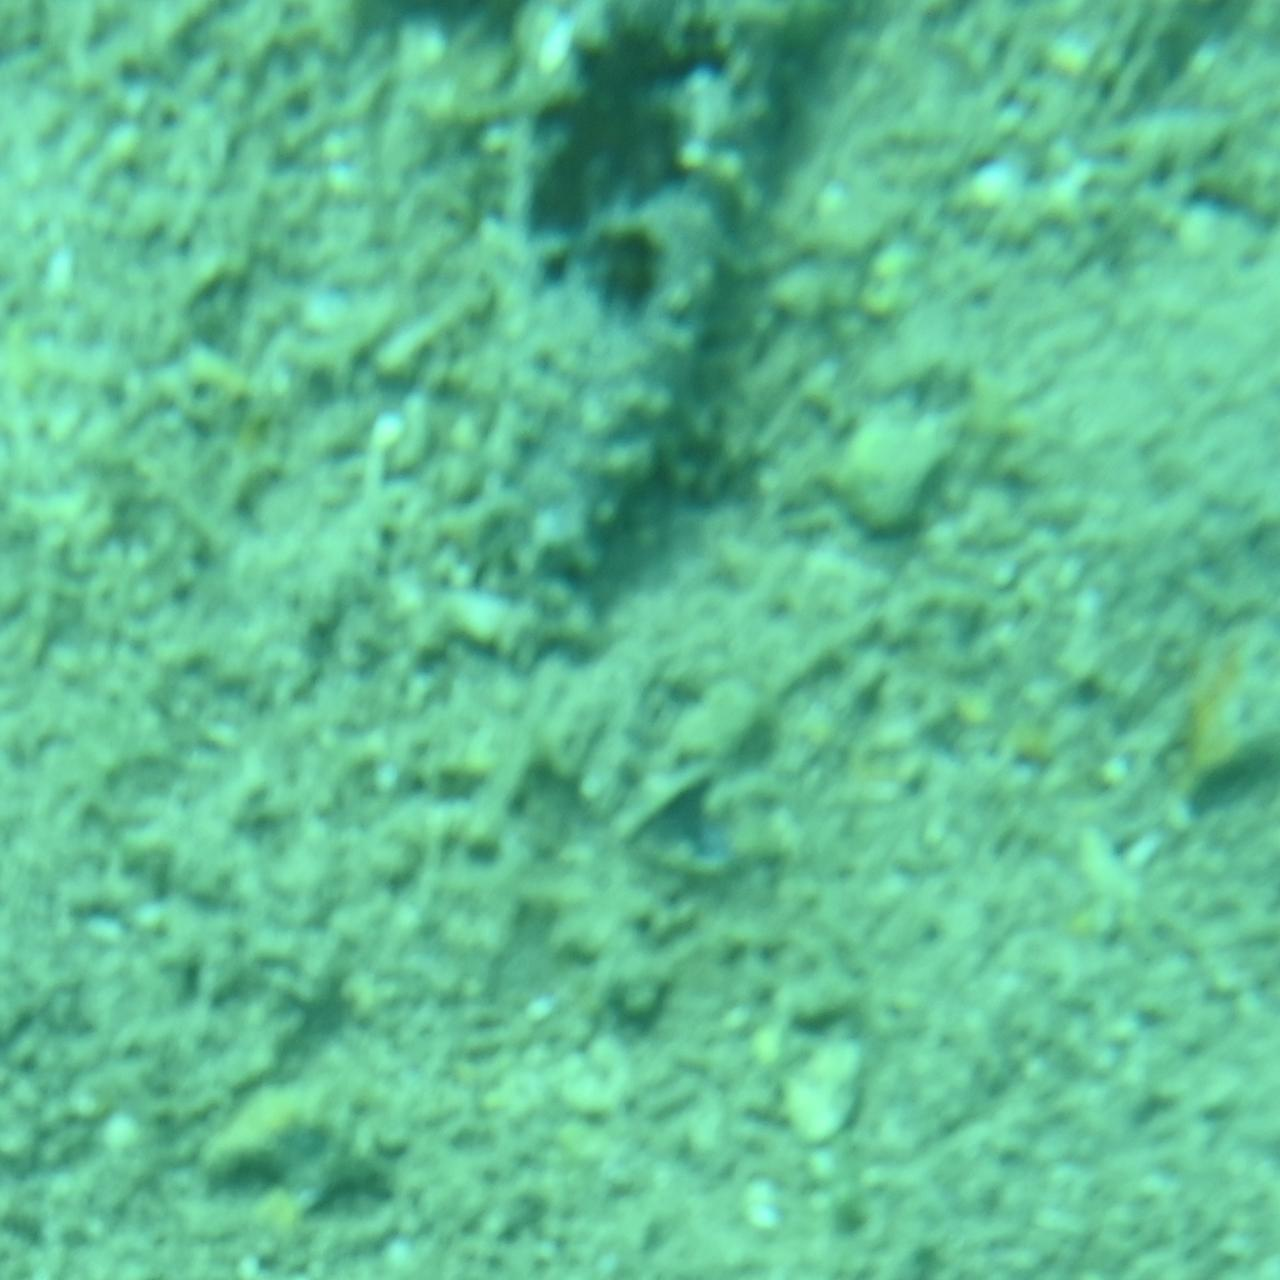Holothuria tubulosa: (418, 0, 862, 653)
